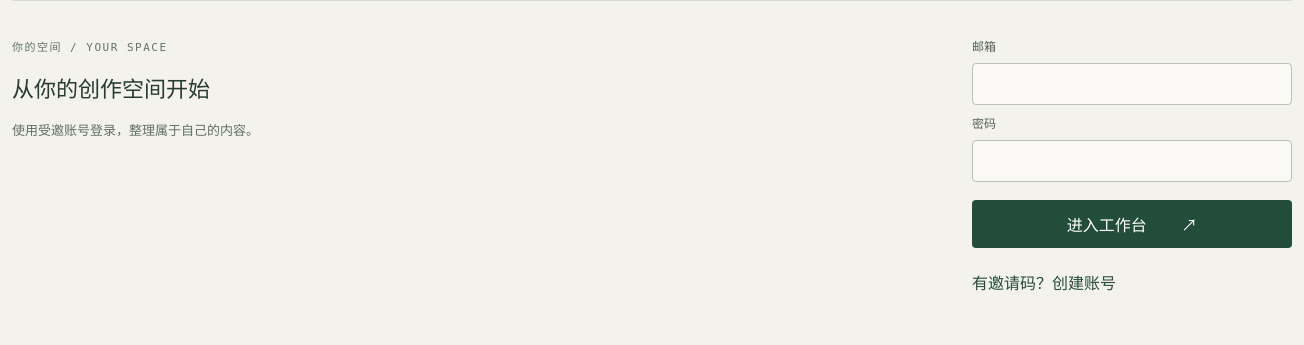
Test: login workspace › explains rejected credentials without showing a successful session
In the field labelled "邮箱": (1132, 84) [972, 63, 1292, 105], type "a@example.test"
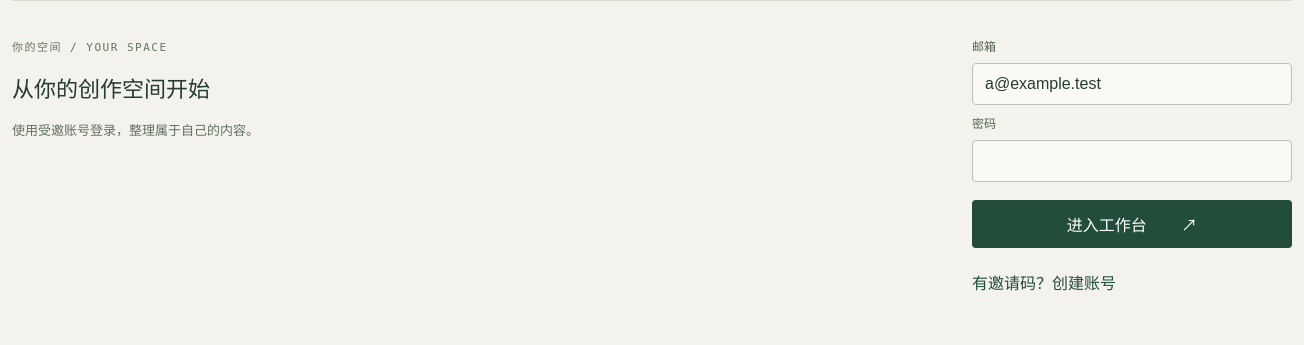
In the password field labelled "密码": (1132, 161) [972, 140, 1292, 182], type "wrong"
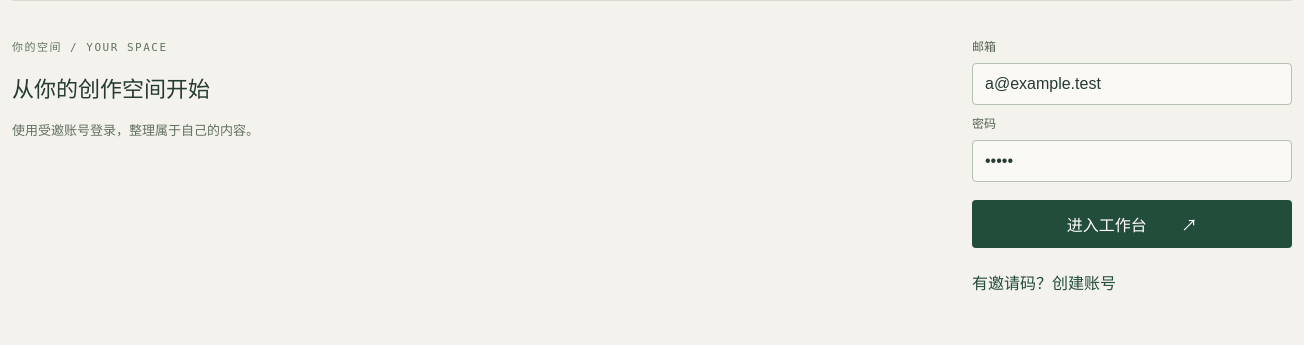
Submit the form, box [972, 37, 1292, 298]
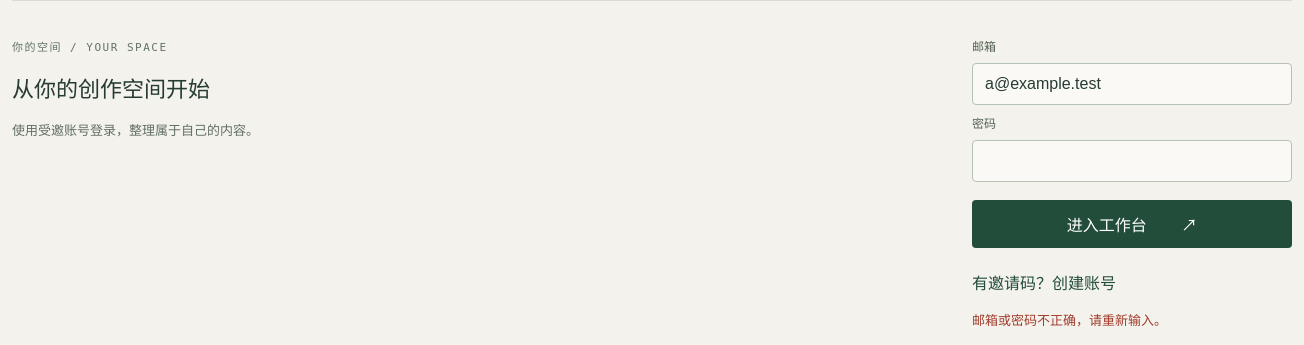
expect the button "进入工作台 ↗" is enabled: met, box [972, 200, 1292, 248]
expect the message "邮箱或密码不正确，请重新输入。" is shown: met, box [972, 313, 1167, 328]
